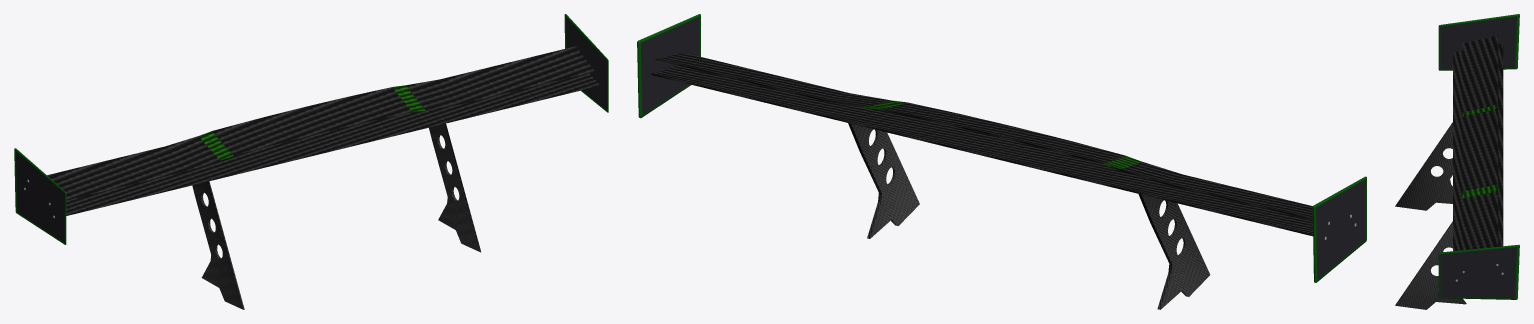
3 views of the same model, side by side, from view 1: azimuth 30°, elevation 25°; view 2: azimuth 150°, elevation 25°; view 3: azimuth 270°, elevation 25° (orthographic). The views are drawn at different scales.
Parts seen in each view (by area): view 1: top wing_0, low wing_2, stand_1, sides center_5, sides outlines_6, top lines_3; view 2: low wing_2, top wing_0, stand_1, sides center_5, sides outlines_6, top lines_3; view 3: top wing_0, sides center_5, stand_1, low wing_2, sides outlines_6, top lines_3.
Boxes of the visible parts, x1,y1,x2,y2 form: top wing_0: [47, 46, 594, 200]; low wing_2: [66, 73, 600, 215]; stand_1: [192, 123, 480, 309]; sides center_5: [16, 17, 606, 242]; sides outlines_6: [14, 14, 608, 244]; top lines_3: [199, 85, 425, 160]; low wing_2: [651, 65, 1312, 236]; top wing_0: [655, 52, 1312, 220]; stand_1: [848, 123, 1210, 309]; sides center_5: [640, 17, 1365, 279]; sides outlines_6: [637, 14, 1366, 282]; top lines_3: [863, 100, 1141, 170]; top wing_0: [1462, 34, 1498, 250]; sides center_5: [1440, 16, 1516, 298]; stand_1: [1395, 122, 1466, 309]; low wing_2: [1453, 43, 1503, 250]; sides outlines_6: [1438, 14, 1519, 299]; top lines_3: [1462, 103, 1498, 198].
Size of the model in its own units: 1.4 by 0.3668 by 0.319.
7 materials, 4 textured.
